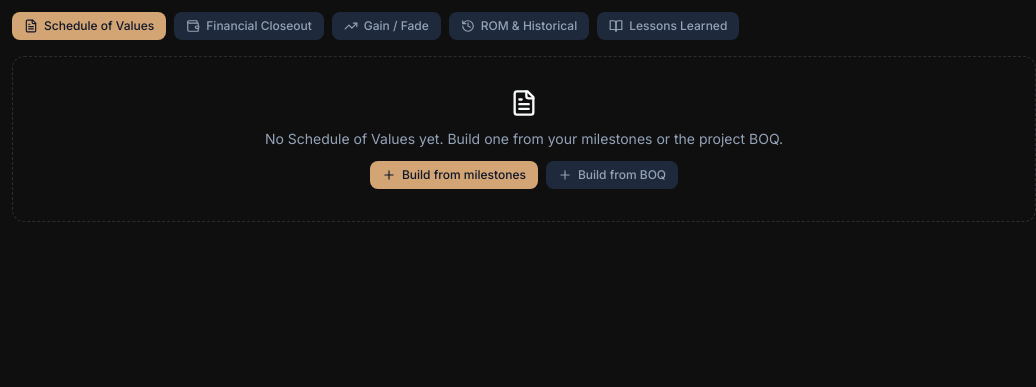
it: CloseoutPanel › issues and acknowledges a lien waiver
What coordinates should you click on to do the following:
click the button "Financial Closeout"
I would click on:
 (249, 26)
Its box is x1=174 y1=12 x2=324 y2=40.
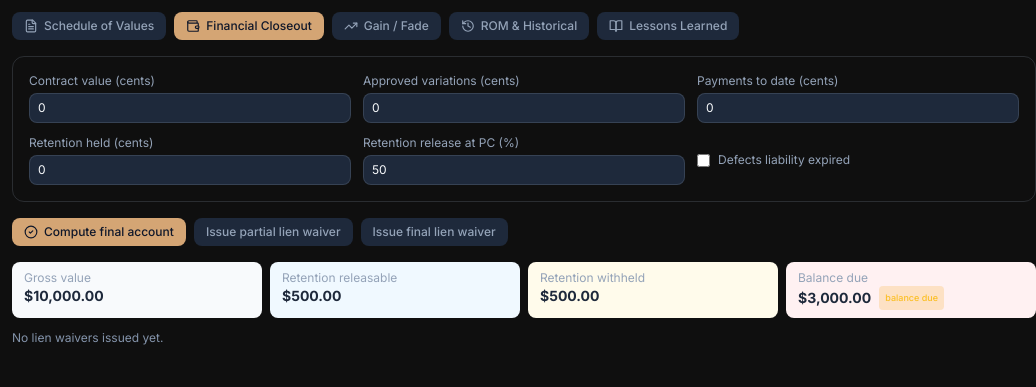
What coordinates should you click on to do the following:
click the button "Issue final lien waiver"
I would click on:
 (434, 232)
Its box is x1=360 y1=218 x2=508 y2=246.
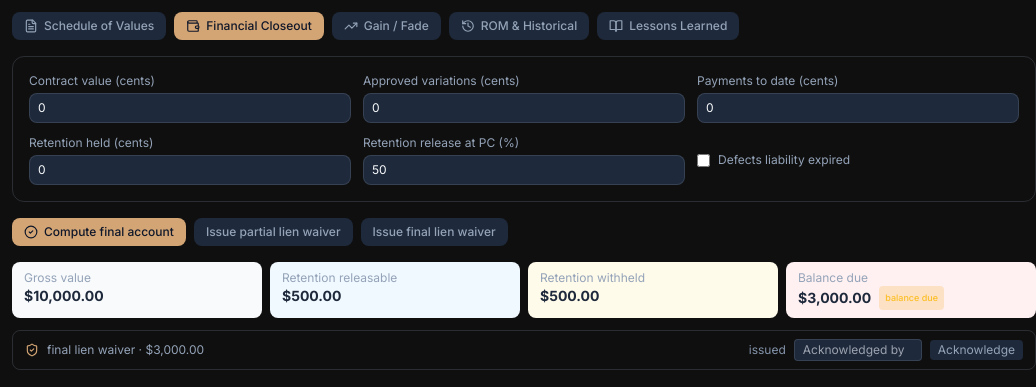
Expected: the text "final lien waiver · $3,000.00" is shown, x1=25 y1=342 x2=204 y2=358
What coordinates should you click on to do the following:
click the button "Acknowledge"
I would click on:
 (976, 350)
Its box is x1=930 y1=340 x2=1023 y2=360.
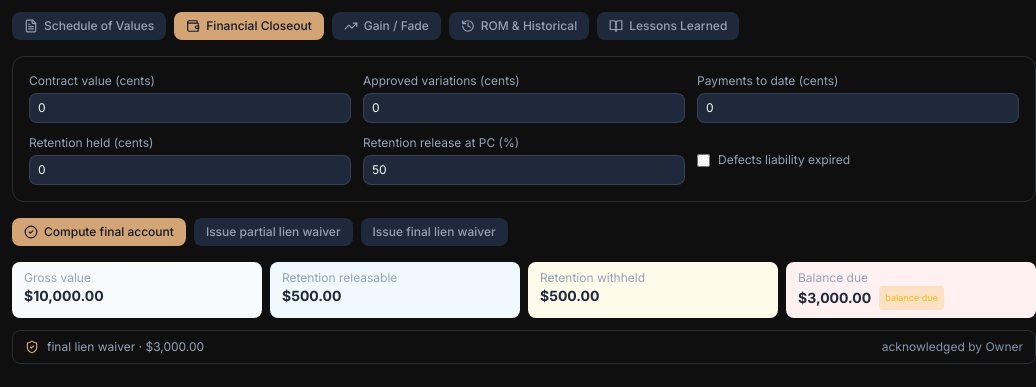
Expected: the text "acknowledged by Owner" is shown, x1=882 y1=339 x2=1023 y2=355
